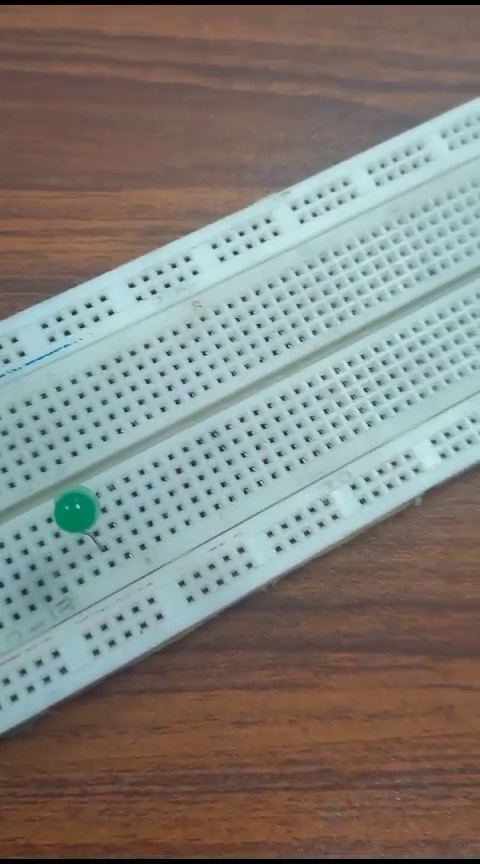LED: (40, 475, 120, 548)
